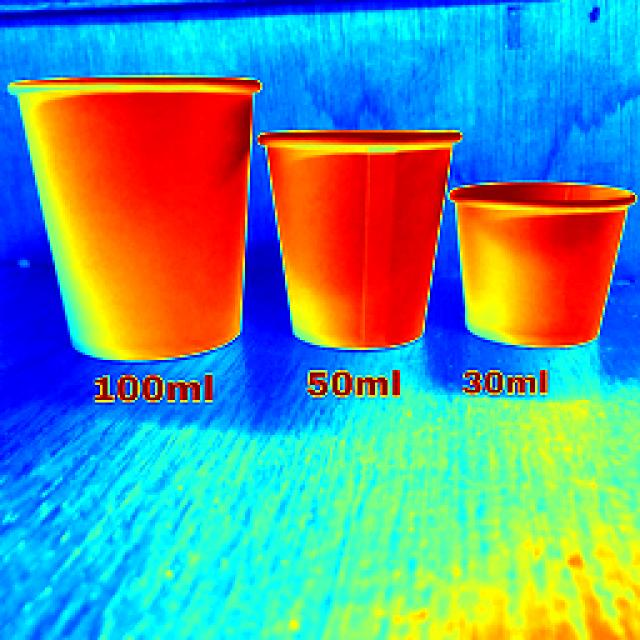Paper Cups: (12, 52, 270, 400), (253, 107, 451, 388), (438, 150, 619, 380)
